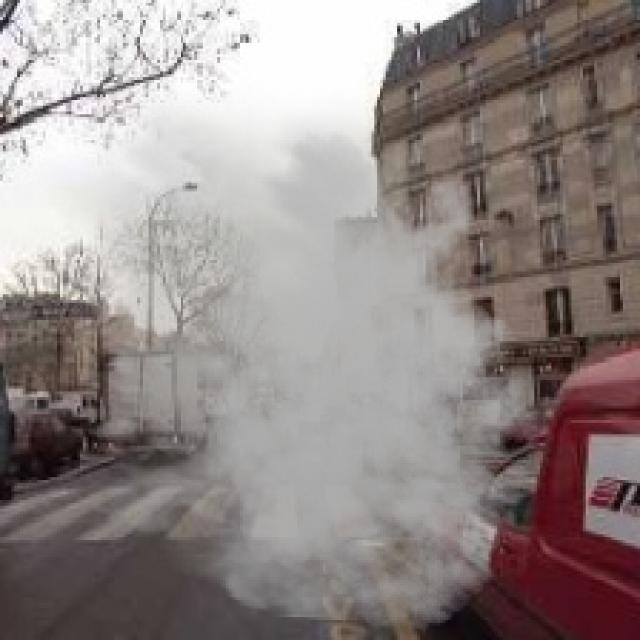smoke: (28, 80, 563, 631)
